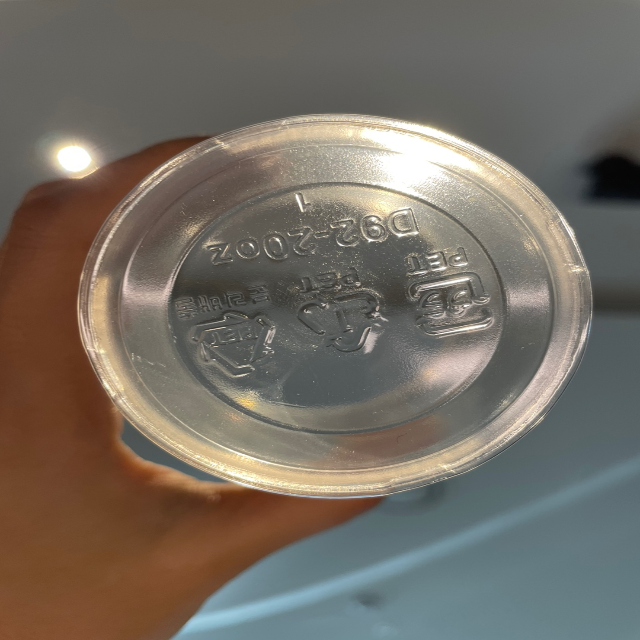pet: (170, 280, 280, 382), (398, 245, 498, 341), (294, 262, 386, 363)
